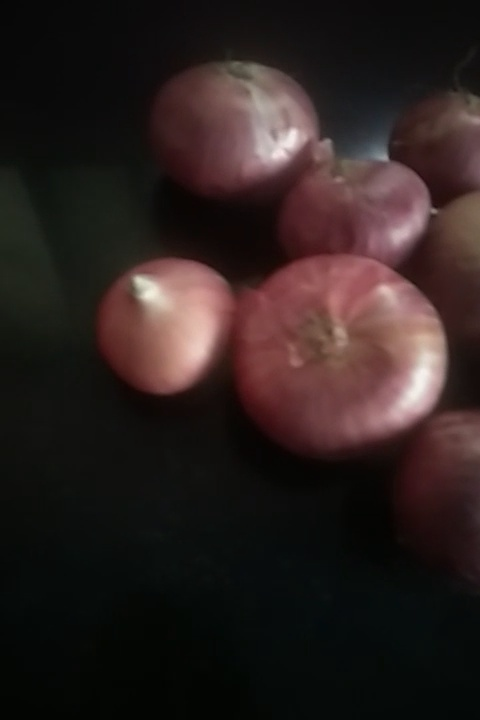onion: (222, 247, 442, 462), (94, 251, 239, 403), (169, 48, 307, 207), (275, 155, 421, 272), (391, 399, 480, 551), (405, 192, 480, 361), (384, 89, 480, 190)
